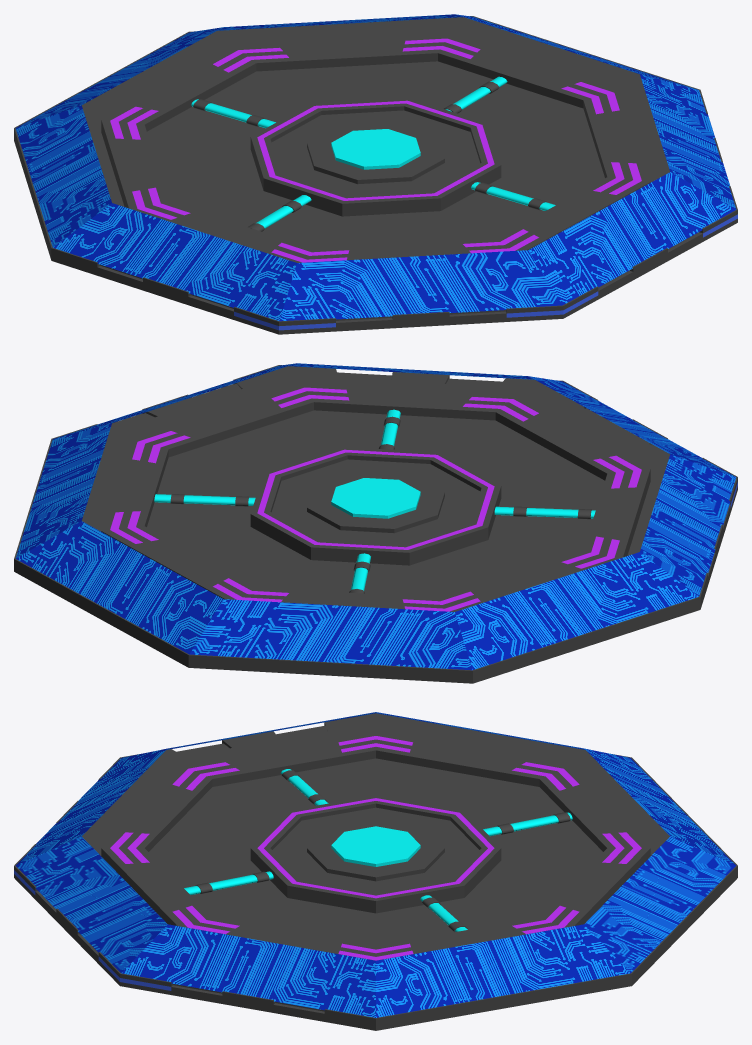
The model's file is FUT0410046 1 (1).fbx.
3 renders of one model, top to bottom at view 1: azimuth 30°, elevation 25°; view 2: azimuth 150°, elevation 25°; view 3: azimuth 270°, elevation 25°, orthographic. The views are drawn at different scales.
Visible parts, largest first — view 1: FUT0410046_1__1_; view 2: FUT0410046_1__1_; view 3: FUT0410046_1__1_.
Part boxes in pixels (x1=…): FUT0410046_1__1_: x1=14, y1=14, x2=737, y2=334; FUT0410046_1__1_: x1=14, y1=363, x2=737, y2=683; FUT0410046_1__1_: x1=14, y1=712, x2=737, y2=1030.
Bounding box in the file's own units: 1235 × 78.29 × 1235.
